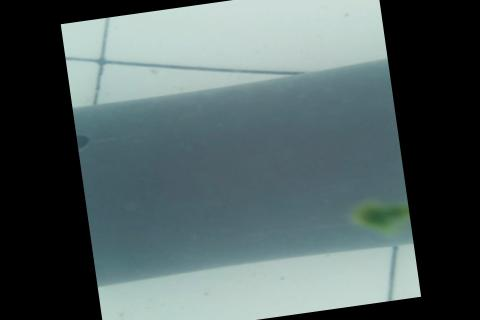kebocoran: (74, 131, 93, 153)
